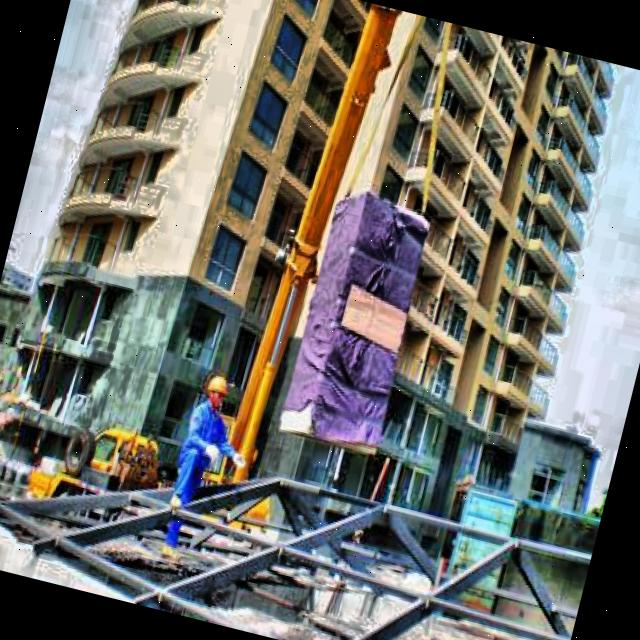helmet: (200, 368, 238, 413)
